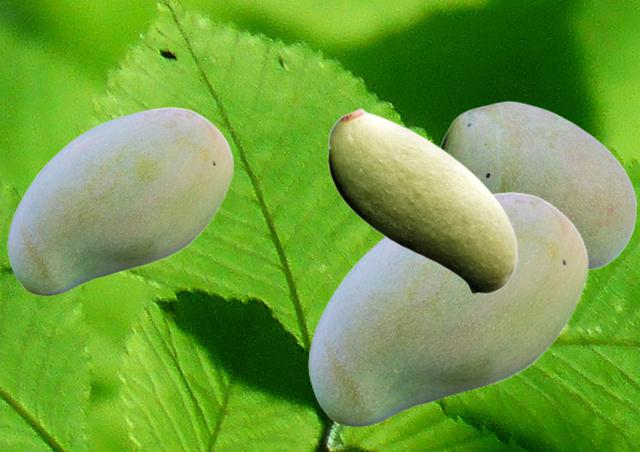green_mango: (308, 192, 588, 425), (7, 107, 233, 294), (327, 107, 517, 294), (439, 100, 636, 269)
